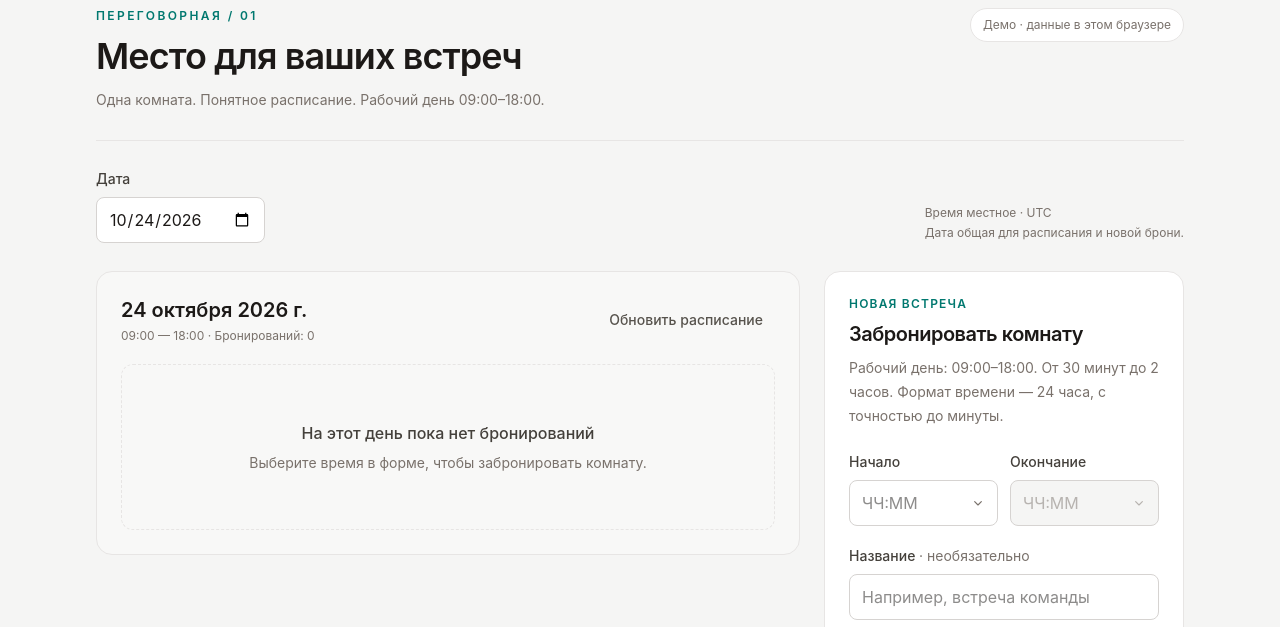
Test case: booking UI through real HTTP handlers › validates fields without erasing draft
Expected: the text "На этот день пока нет бронирований" is shown, [302,423,594,443]
Type "10:00" into the dropdown labelled "Начало".
click(924, 503); type("10:00")  # box [849,480,998,526]
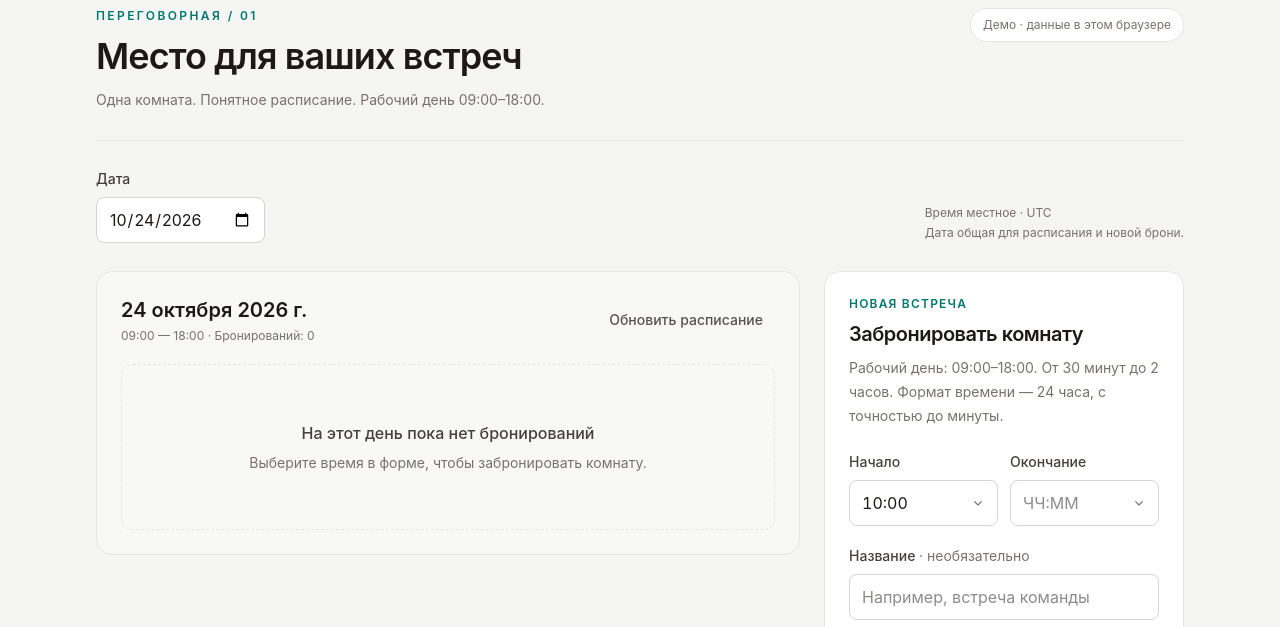
Type "10:29" into the dropdown labelled "Окончание".
click(1084, 503); type("10:29")  # box [1010,480,1159,526]
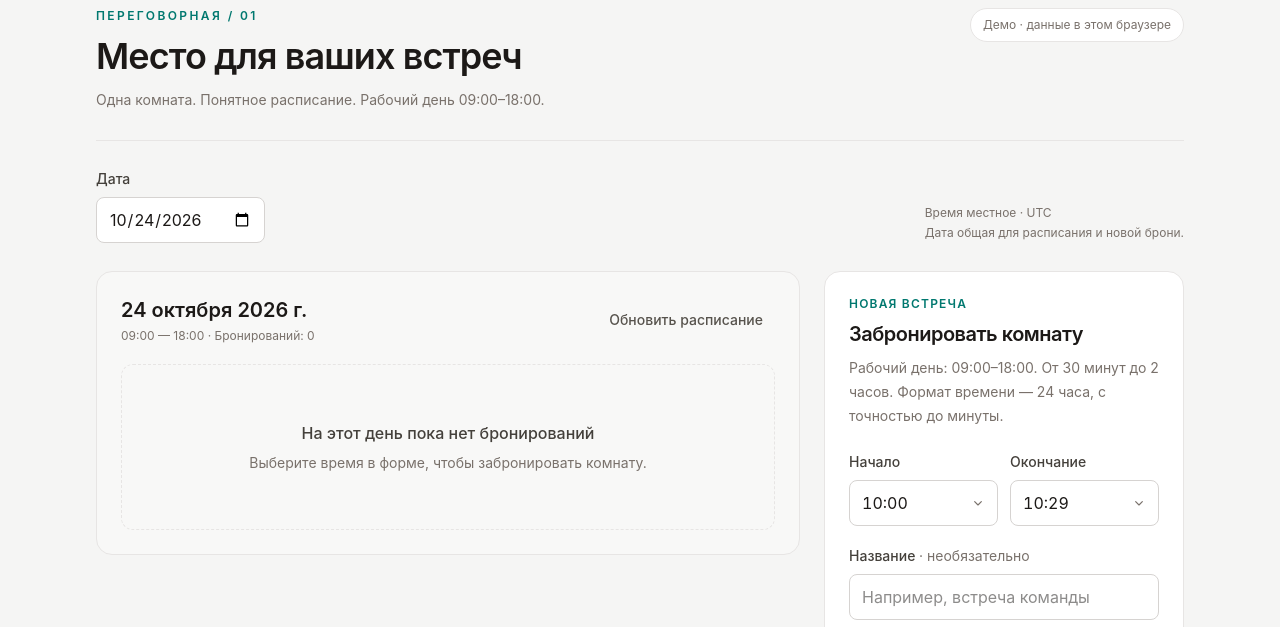
Type "Мой черновик" into the field labelled "Название · необязательно".
click(1004, 597); type("Мой черновик")  # box [849,574,1159,620]
(page scrolled)
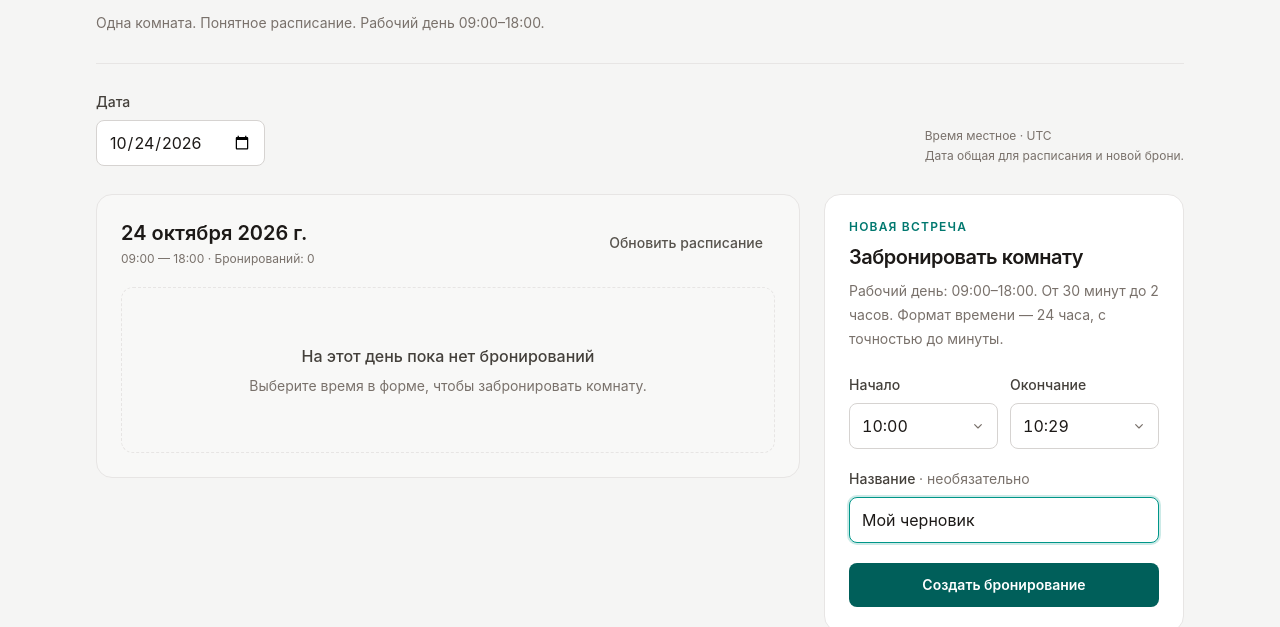
Click the button "Создать бронирование".
click(1004, 585)  # box [849,563,1159,607]
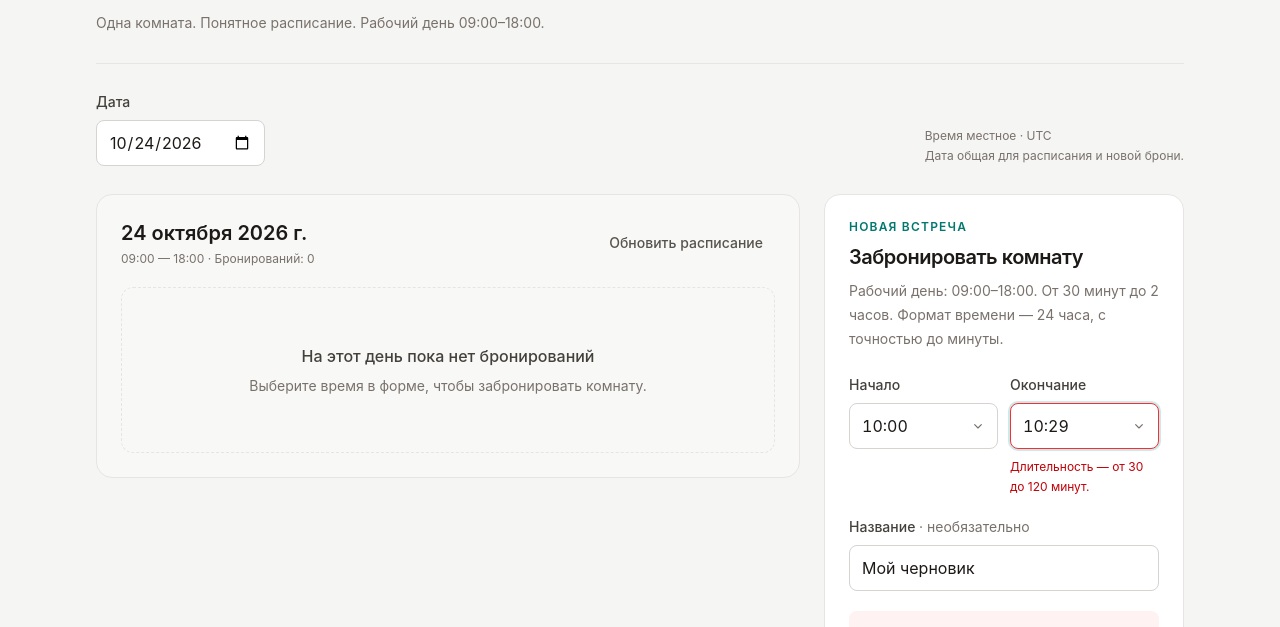
Result: the text "Длительность — от 30 до 120 минут." is shown at [1010,457,1159,497]
